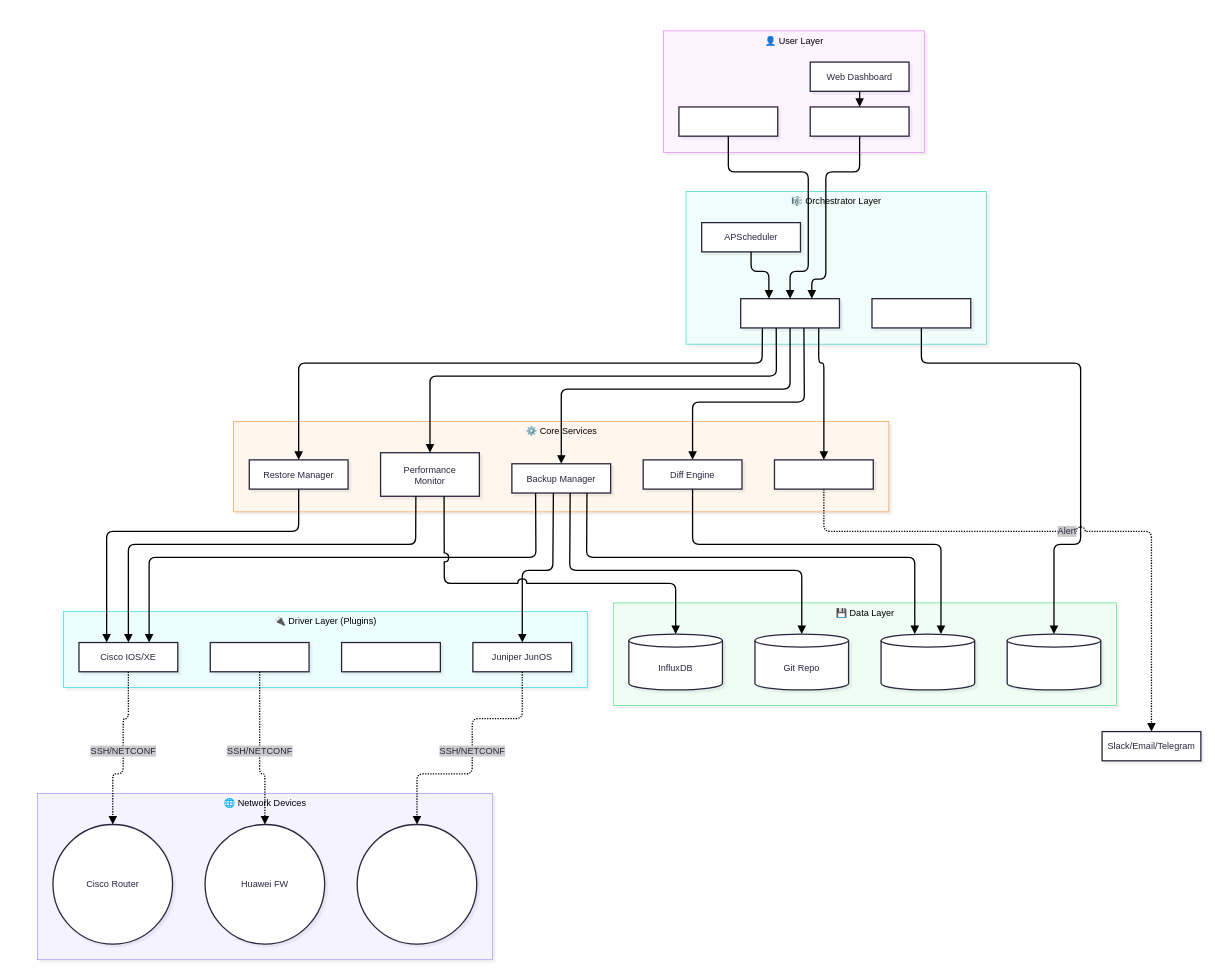
The diagram is 1215 pixels wide and 974 high, and some of its shapes have lost their labels. The shapes that lost their labels are listed below. From the top down, each one's centre as x and y in pixels, then its label:
At point (729, 122): "CLI - Click/Rich".
At point (860, 122): "REST API - FastAPI".
At point (791, 314): "Orchestrator Service".
At point (922, 314): "RBAC + Audit".
At point (825, 475): "Notifier Service".
At point (260, 658): "Huawei VRP".
At point (392, 658): "Arista EOS".
At point (929, 663): "PostgreSQL".
At point (1055, 663): "Vault/.env".
At point (418, 885): "Juniper Switch".
